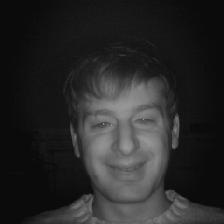happy: (43, 38, 191, 211)
